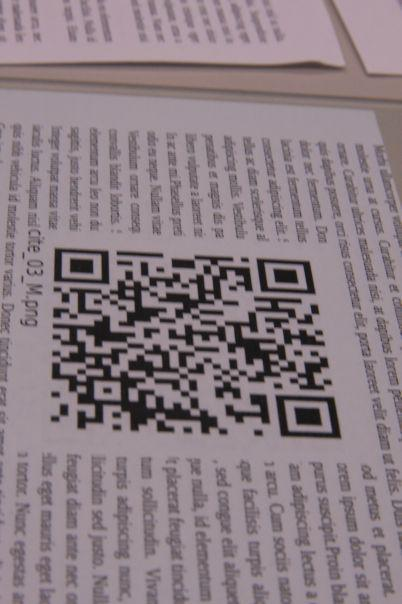Finder pattern: (269, 386, 346, 444), (47, 242, 116, 293), (253, 252, 321, 302)
